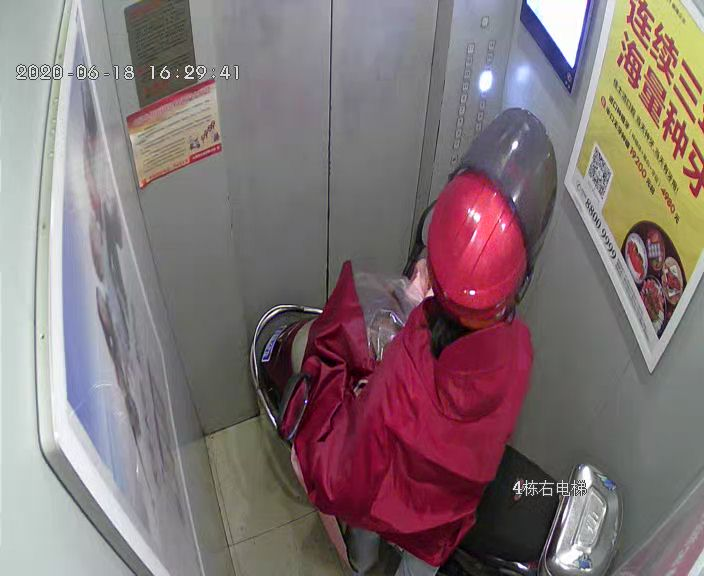Electric-bicycle: (255, 301, 624, 576)
